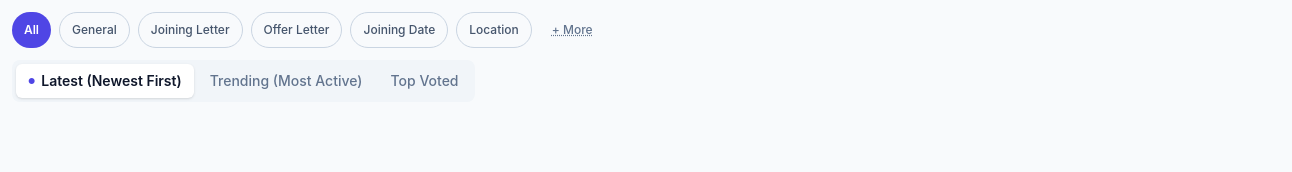
it: CategoryTabs › caps the pill row and reveals the rest through More, per the design
This screenshot has width=1292, height=172.
Expected: the radio button labelled "All" is shown, x1=12 y1=12 x2=51 y2=48
Expected: the radio button labelled "Joining Letter" is shown, x1=138 y1=12 x2=242 y2=48
Click the button "+ More".
click(572, 30)  # box x1=540 y1=12 x2=605 y2=48
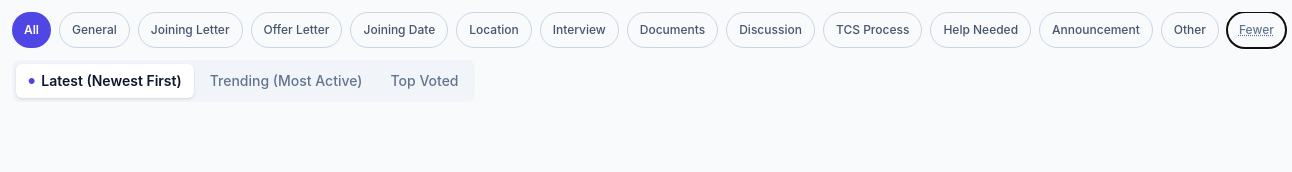
Now the number of radio buttons is 16
Now the radio button labelled "Help Needed" is shown, box x1=930 y1=12 x2=1031 y2=48
Now the button "Fewer" is shown, box x1=1227 y1=12 x2=1286 y2=48
